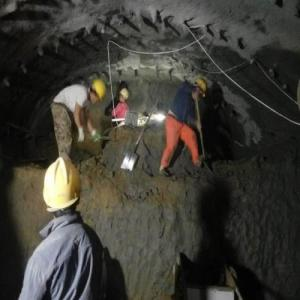white: (44, 159, 83, 218), (121, 89, 130, 104)
yellow: (91, 79, 108, 104), (194, 79, 209, 99)
